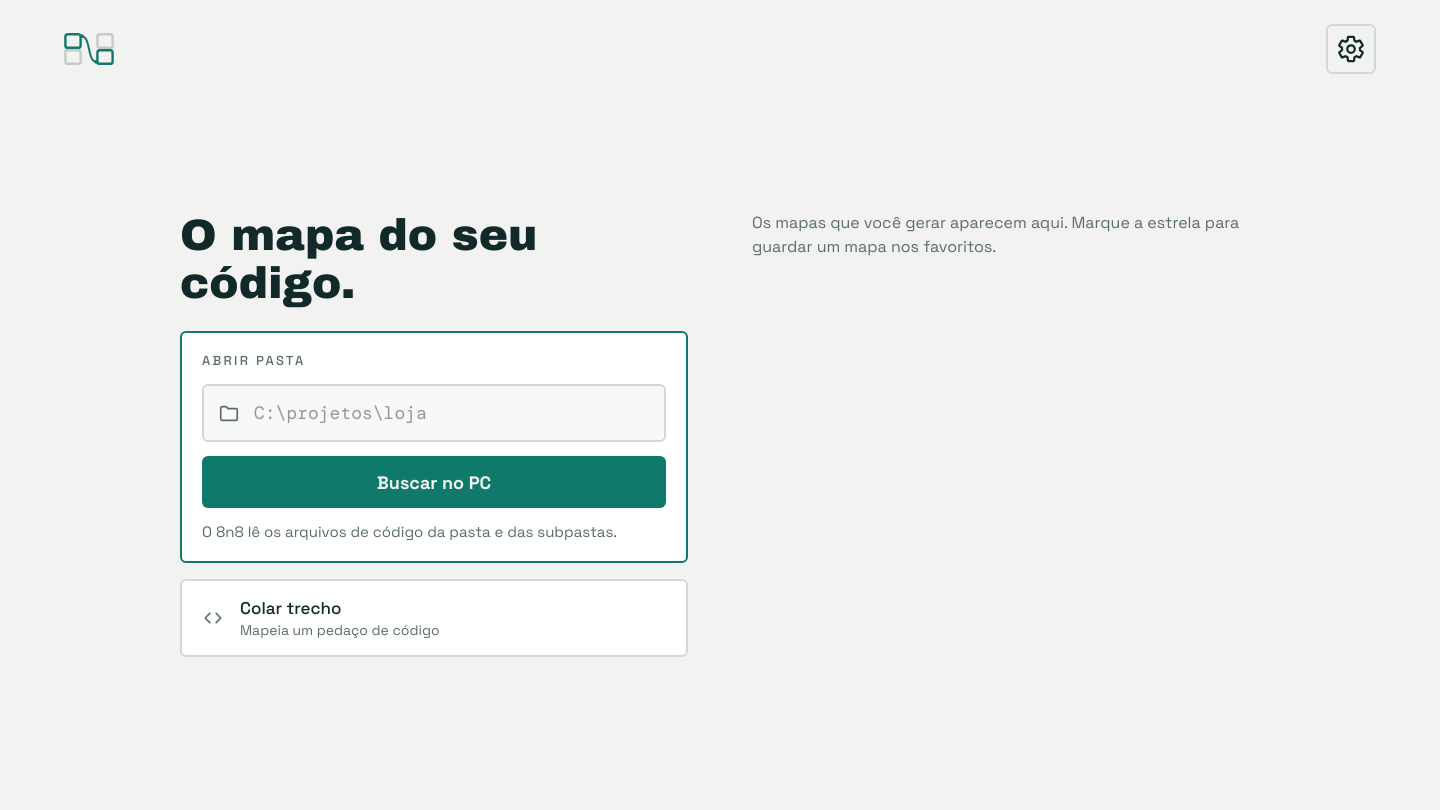
Test: App with a local folder (PROJ-02, PROJ-05, PROJ-06) › shows Pasta não encontrada: <path> for a missing folder (PROJ-05)
The image size is (1440, 810).
Type "C:\\nao\\existe" into the field named "Caminho da pasta" at (451, 413), box [252,400,650,426]
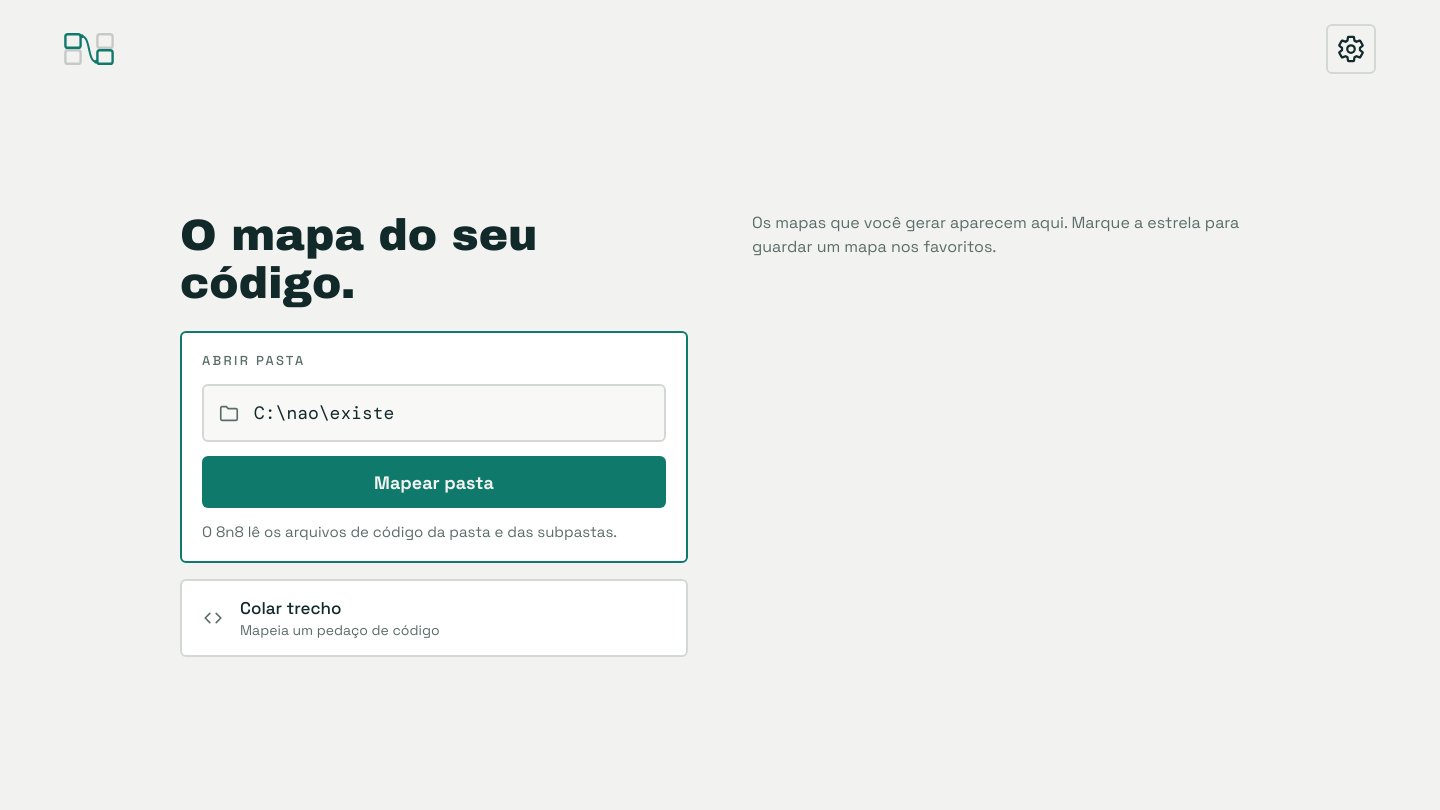
Click the button "Mapear pasta" at (434, 482), box [202,456,666,508]
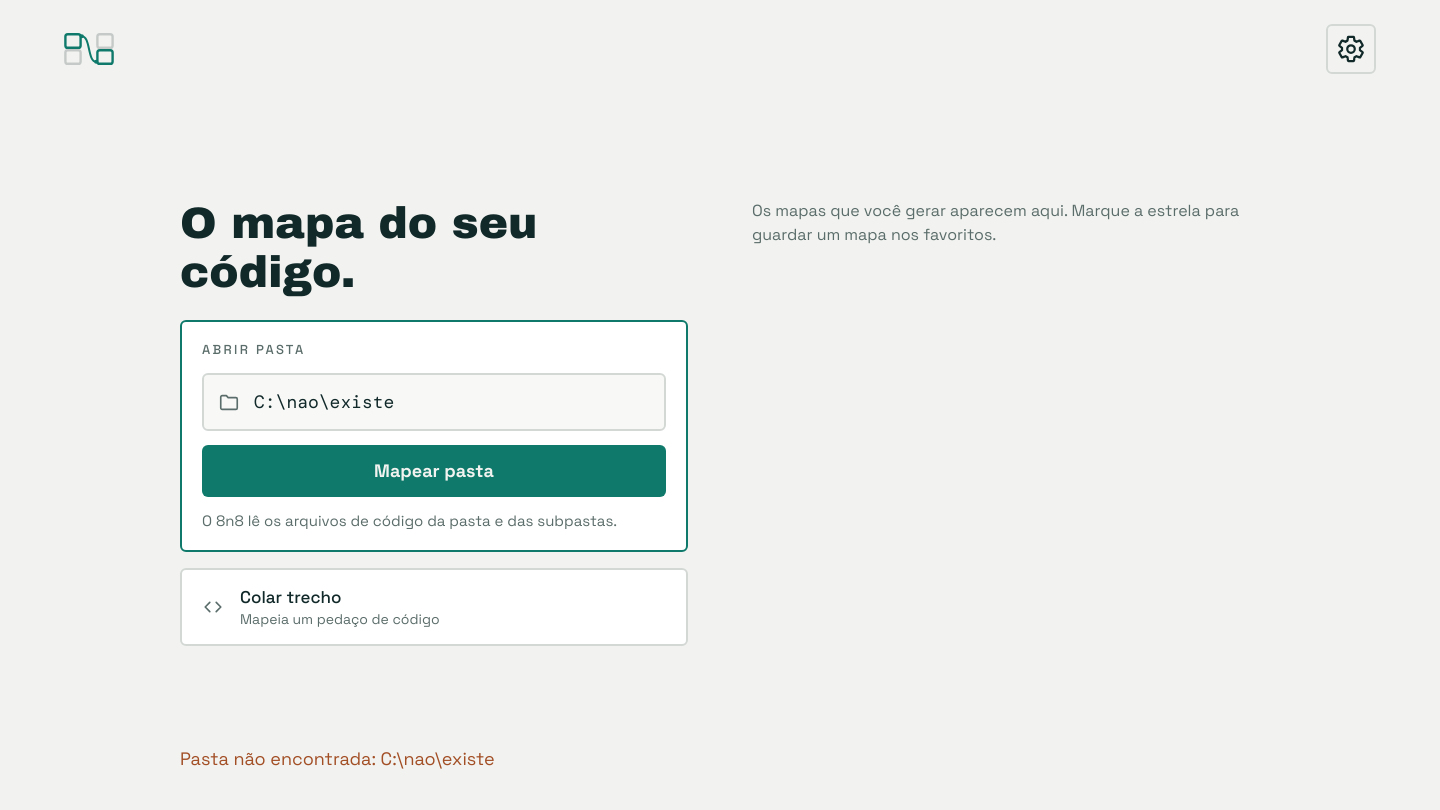
Expected: the message reads "Pasta não encontrada: C:\\nao\\existe", [180,747,495,770]
